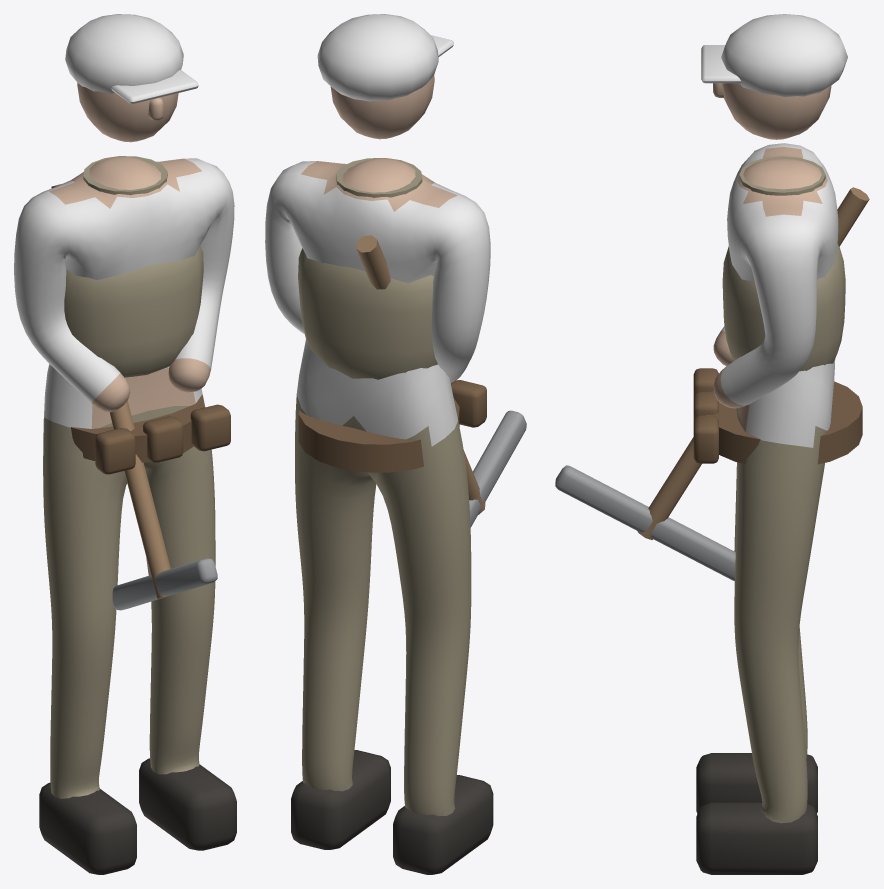
The model's file is citizen.glb.
The picture shows the model from 3 angles, left to right: view 1: azimuth 30°, elevation 25°; view 2: azimuth 150°, elevation 25°; view 3: azimuth 270°, elevation 25°; orthographic projection. The views are drawn at different scales.
Visible parts, largest first — view 1: body; view 2: body; view 3: body.
Part boxes in pixels (<box>): body: <box>14,14,236,874</box>; body: <box>265,14,526,874</box>; body: <box>555,14,869,874</box>.
Bounding box in the file's own units: 0.482 × 1.79 × 0.6194.
